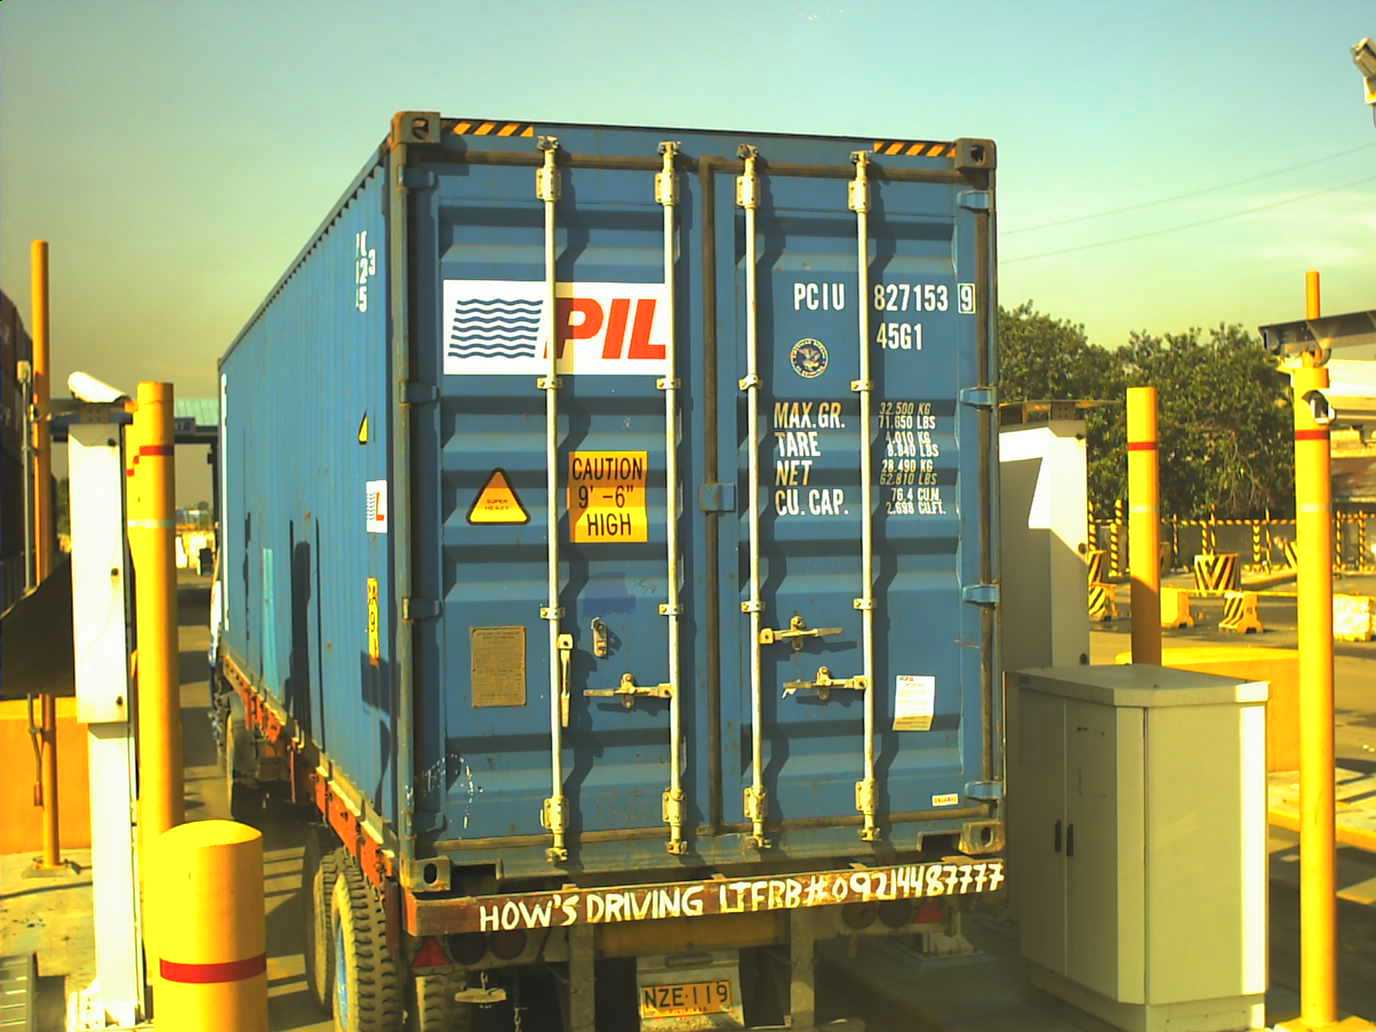container_door: (395, 105, 1011, 862)
